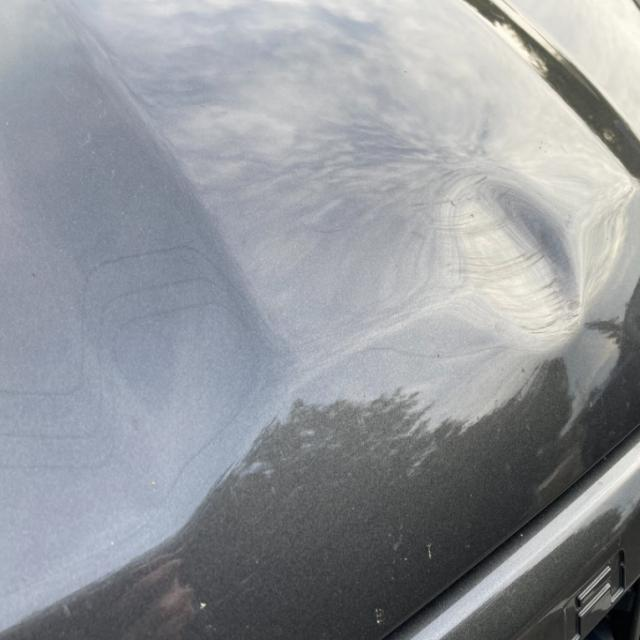dents: (452, 174, 580, 358)
